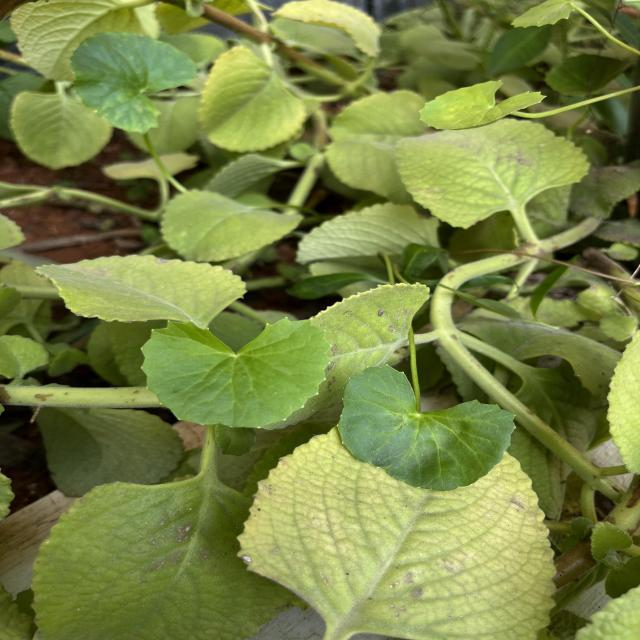Centella asiatica: (332, 359, 520, 496), (137, 312, 336, 433), (415, 76, 552, 132)
